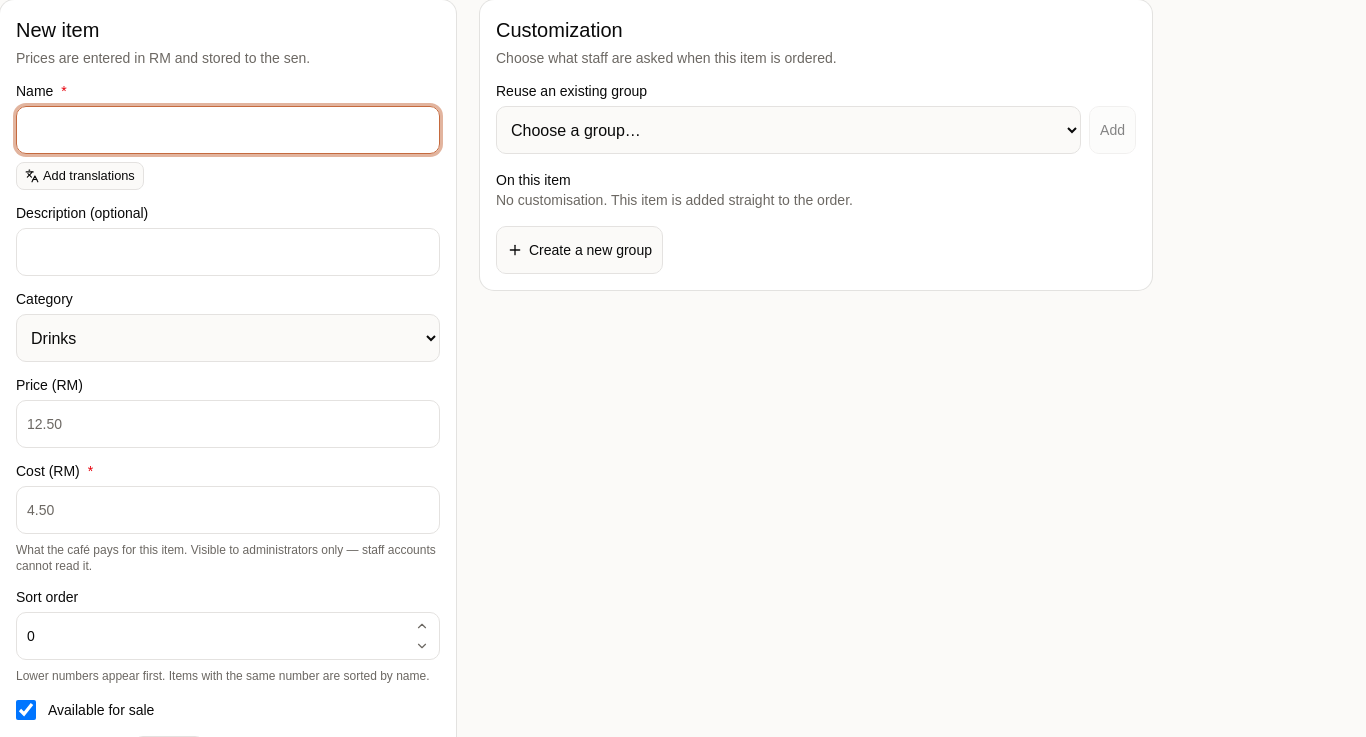
creating an item together with its customisation › changes the hint when the choice changes
The width and height of the screenshot is (1366, 737).
Step 1. Click the button with test id "create-new-group" → click(580, 250), box top-left (496, 226), bottom-right (663, 274)
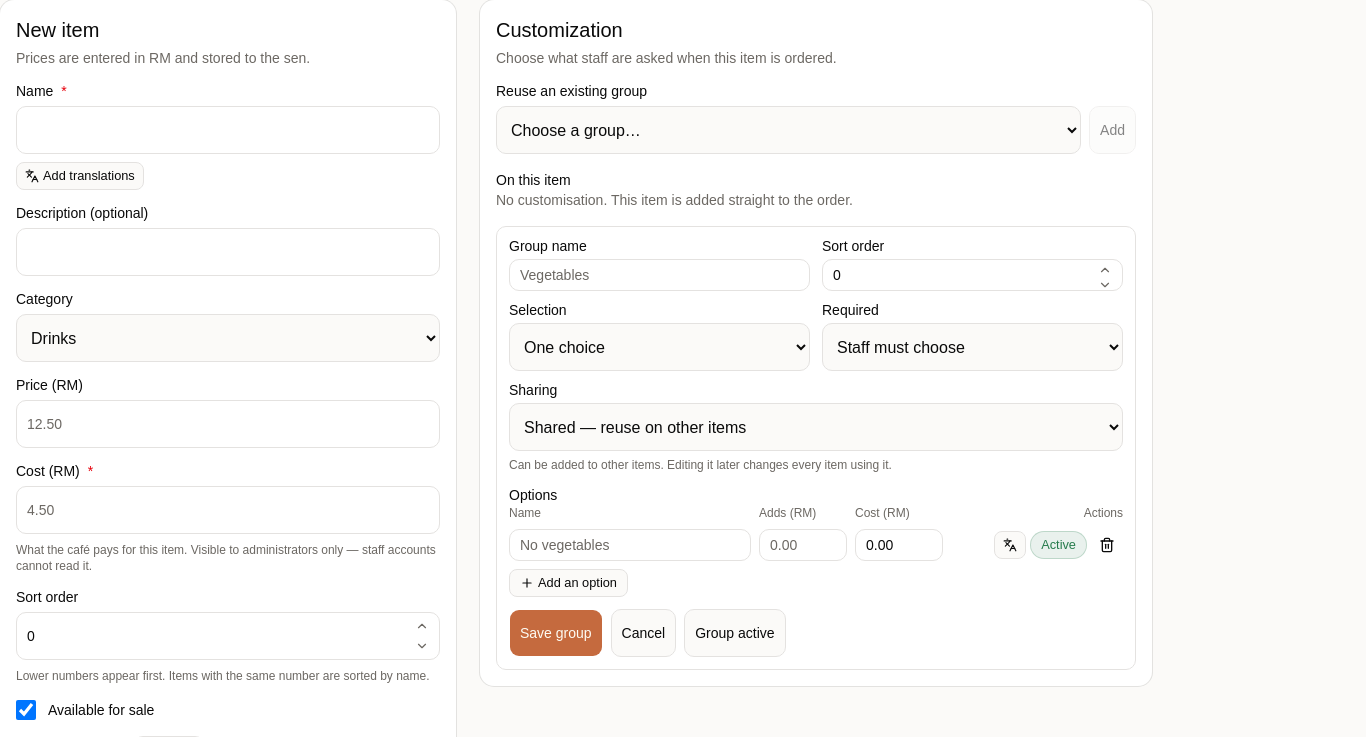
Step 2. Select "This item only" in the dropdown with test id "group-sharing" → (816, 427), box top-left (509, 403), bottom-right (1123, 451)
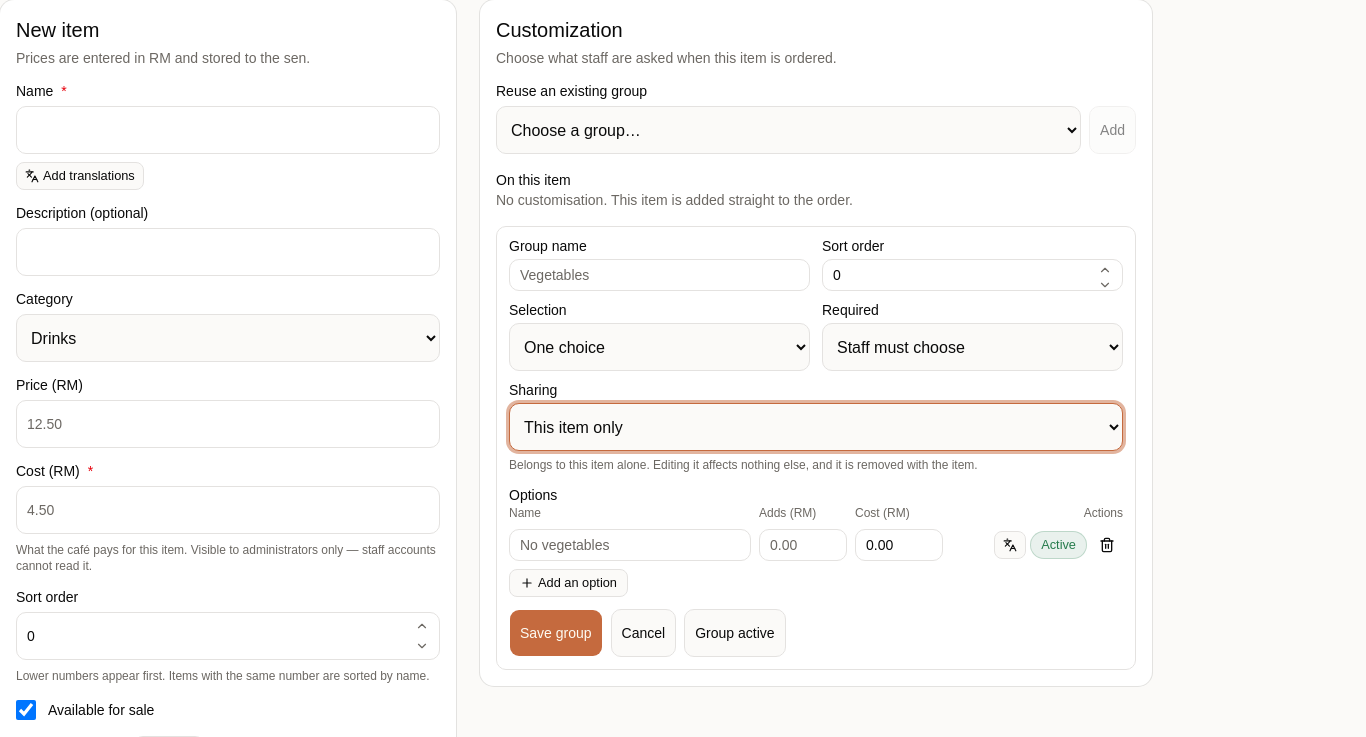
Expected: the text with test id "group-sharing-hint" shows "Belongs to this item alone", top-left (509, 458), bottom-right (978, 472)
